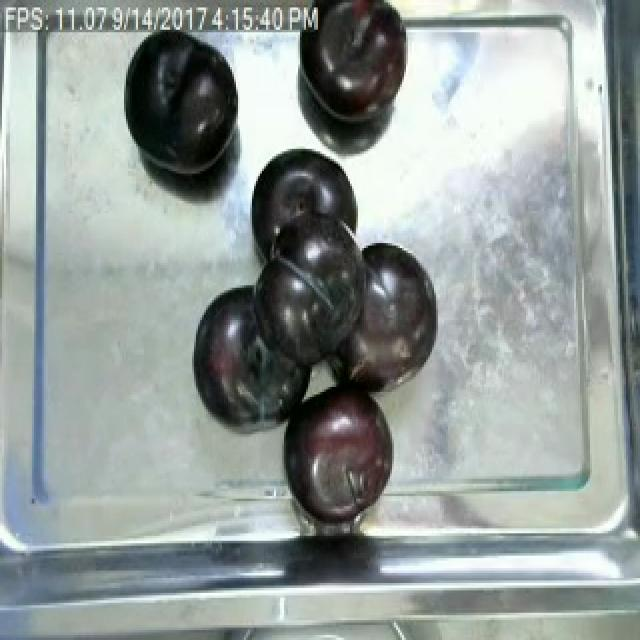Fruit: (116, 27, 248, 186), (182, 270, 308, 432), (332, 228, 446, 404), (274, 372, 400, 526), (300, 0, 416, 136)
